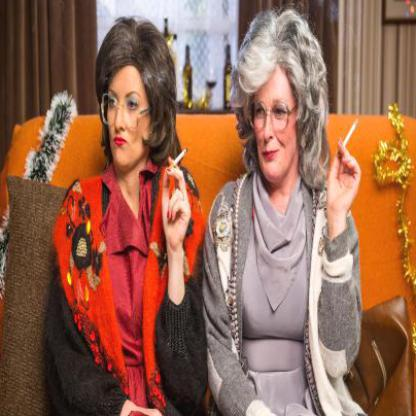cigarette: (340, 118, 360, 149), (170, 144, 191, 172)
person: (50, 14, 220, 415), (207, 7, 366, 415)
